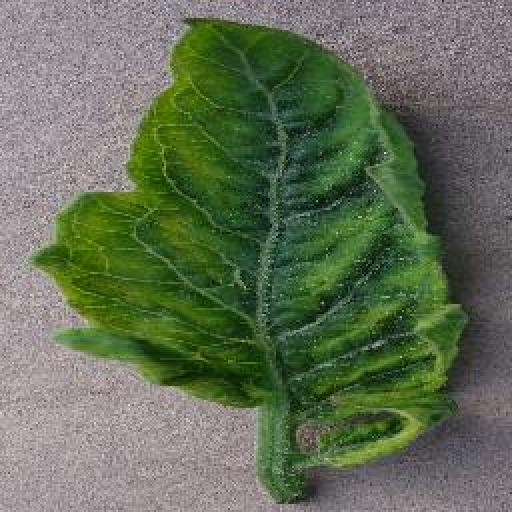Yellow Leaf Curl Virus: (32, 14, 468, 466)
